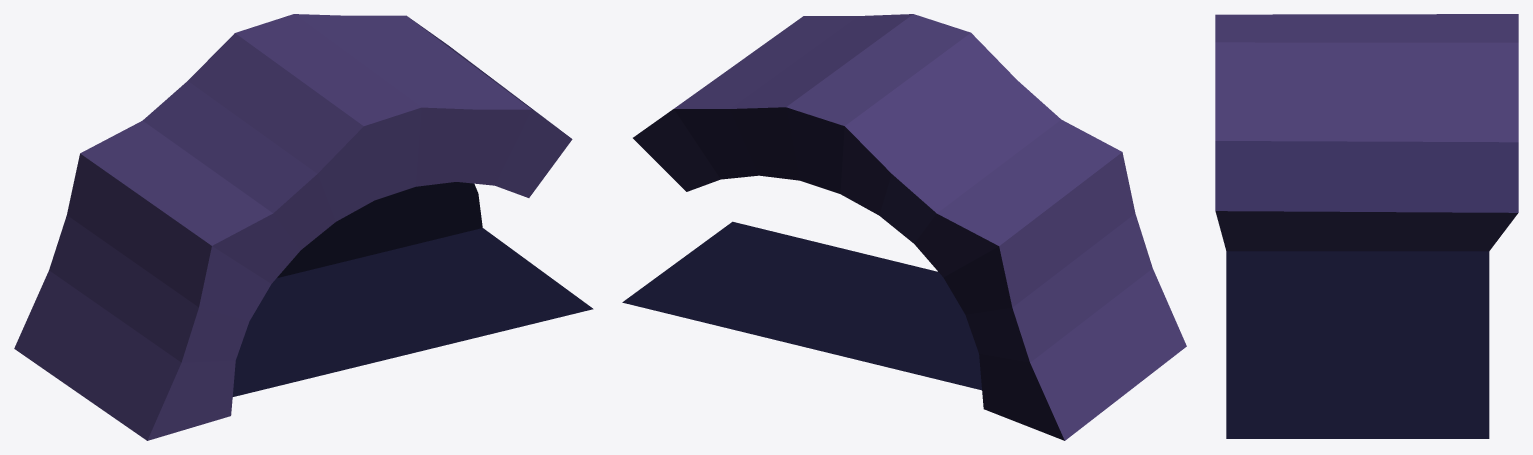
Rendered from cave.glb.
3 renders of one model, left to right at view 1: azimuth 30°, elevation 25°; view 2: azimuth 150°, elevation 25°; view 3: azimuth 270°, elevation 25°, orthographic. The views are drawn at different scales.
Parts seen in each view (by area): view 1: cave; view 2: cave; view 3: cave.
Boxes of the visible parts, x1,y1,x2,y2 form: cave: [14, 14, 593, 440]; cave: [622, 14, 1186, 440]; cave: [1215, 14, 1518, 438].
Size of the model in its own units: 8.56 by 4.77 by 4.15.
